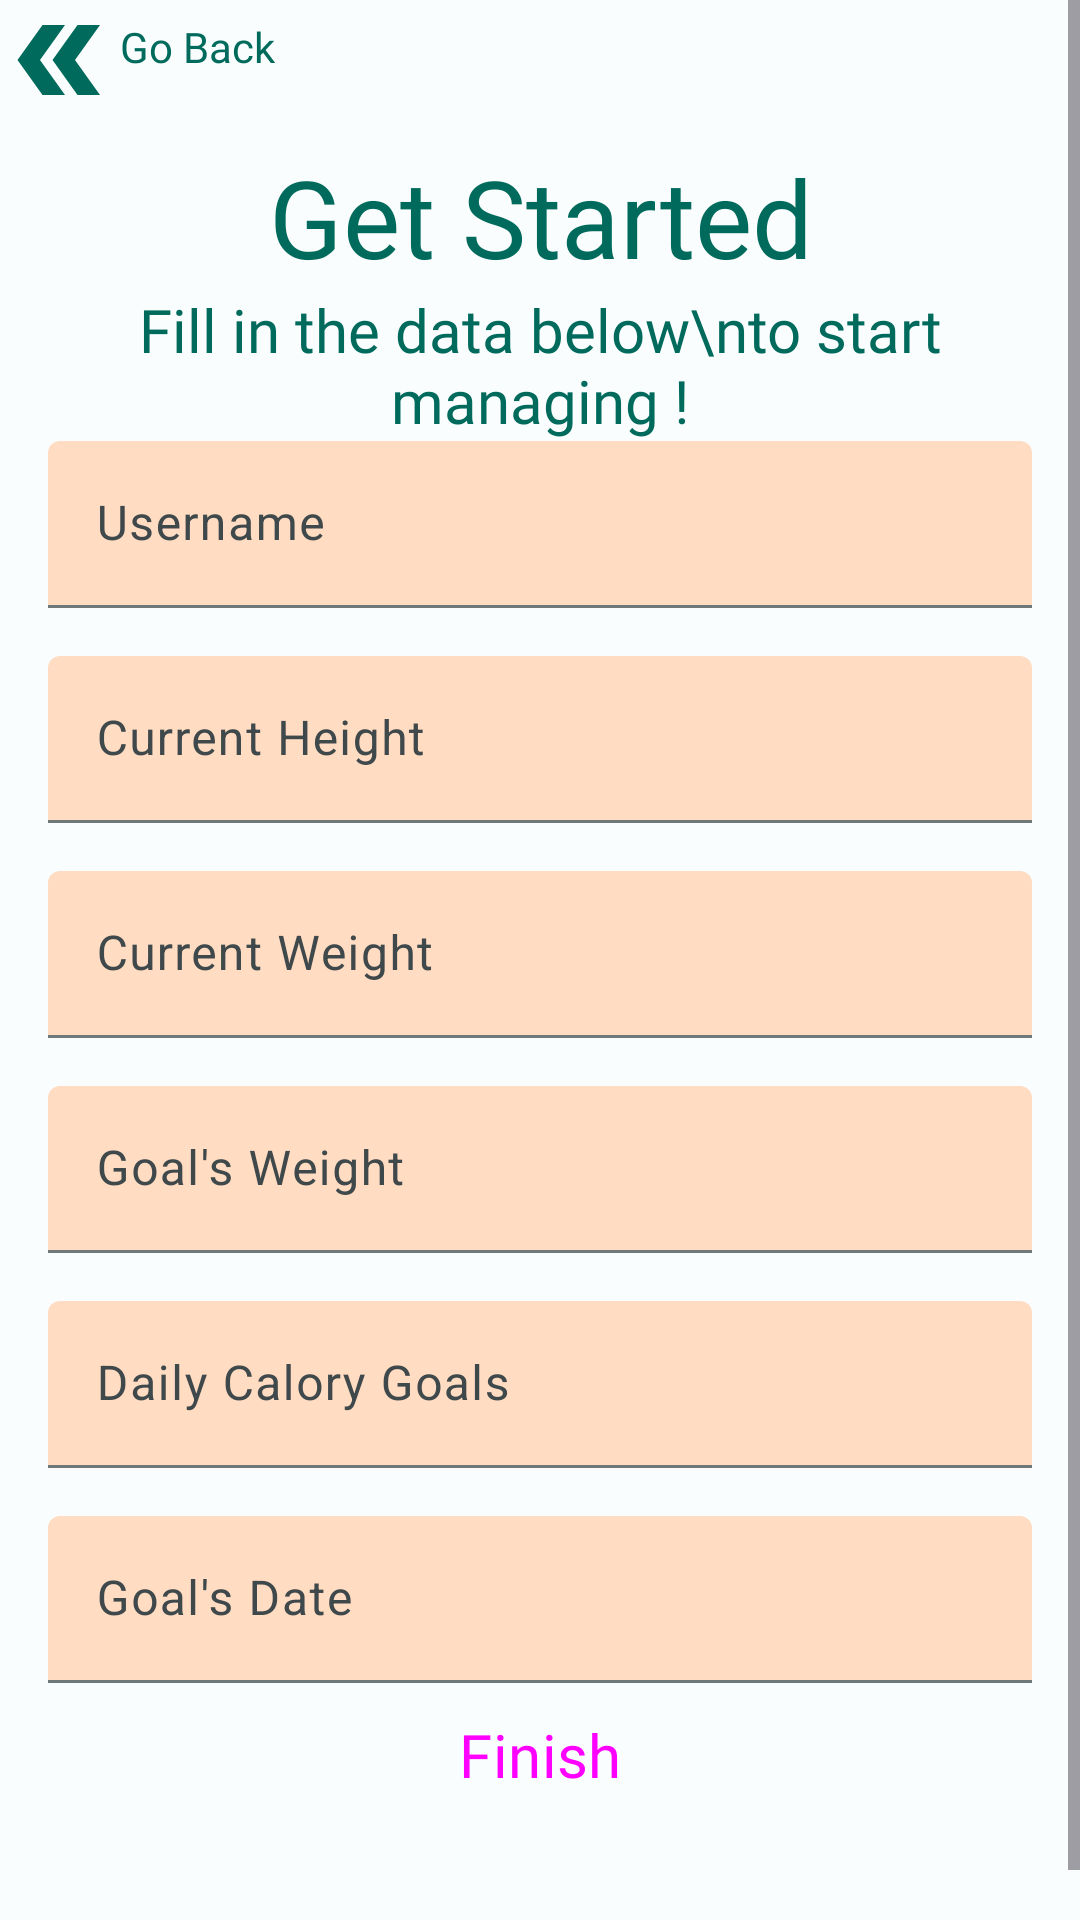

Where icons sit on this 1080px×1920px app screen, as (x1, y1, x2, y2):
double arrow reversed: (17, 25, 100, 95)
